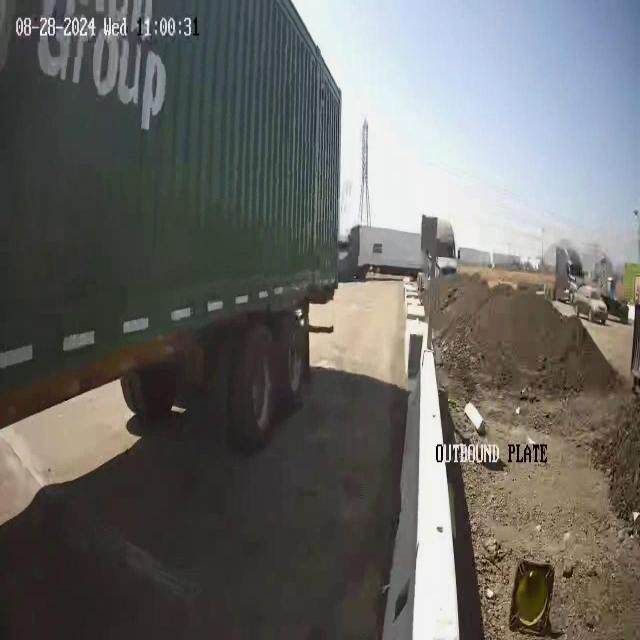TRUCK_CONTAINER: (1, 0, 343, 453)
